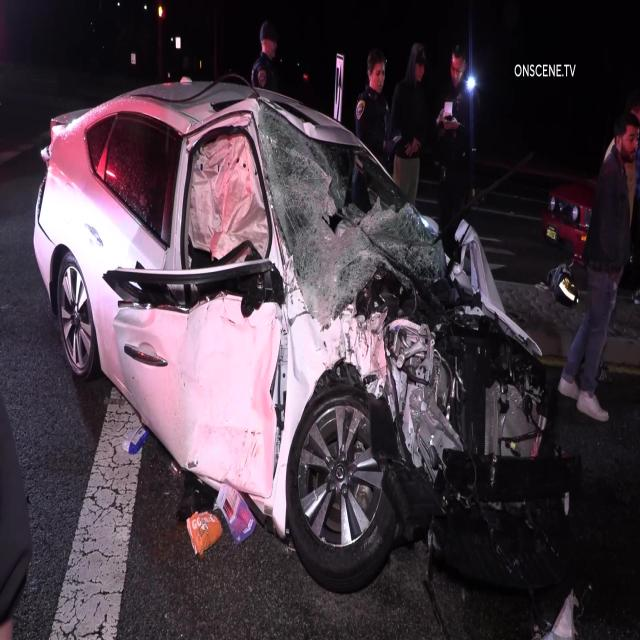Accident: (34, 75, 580, 640)
